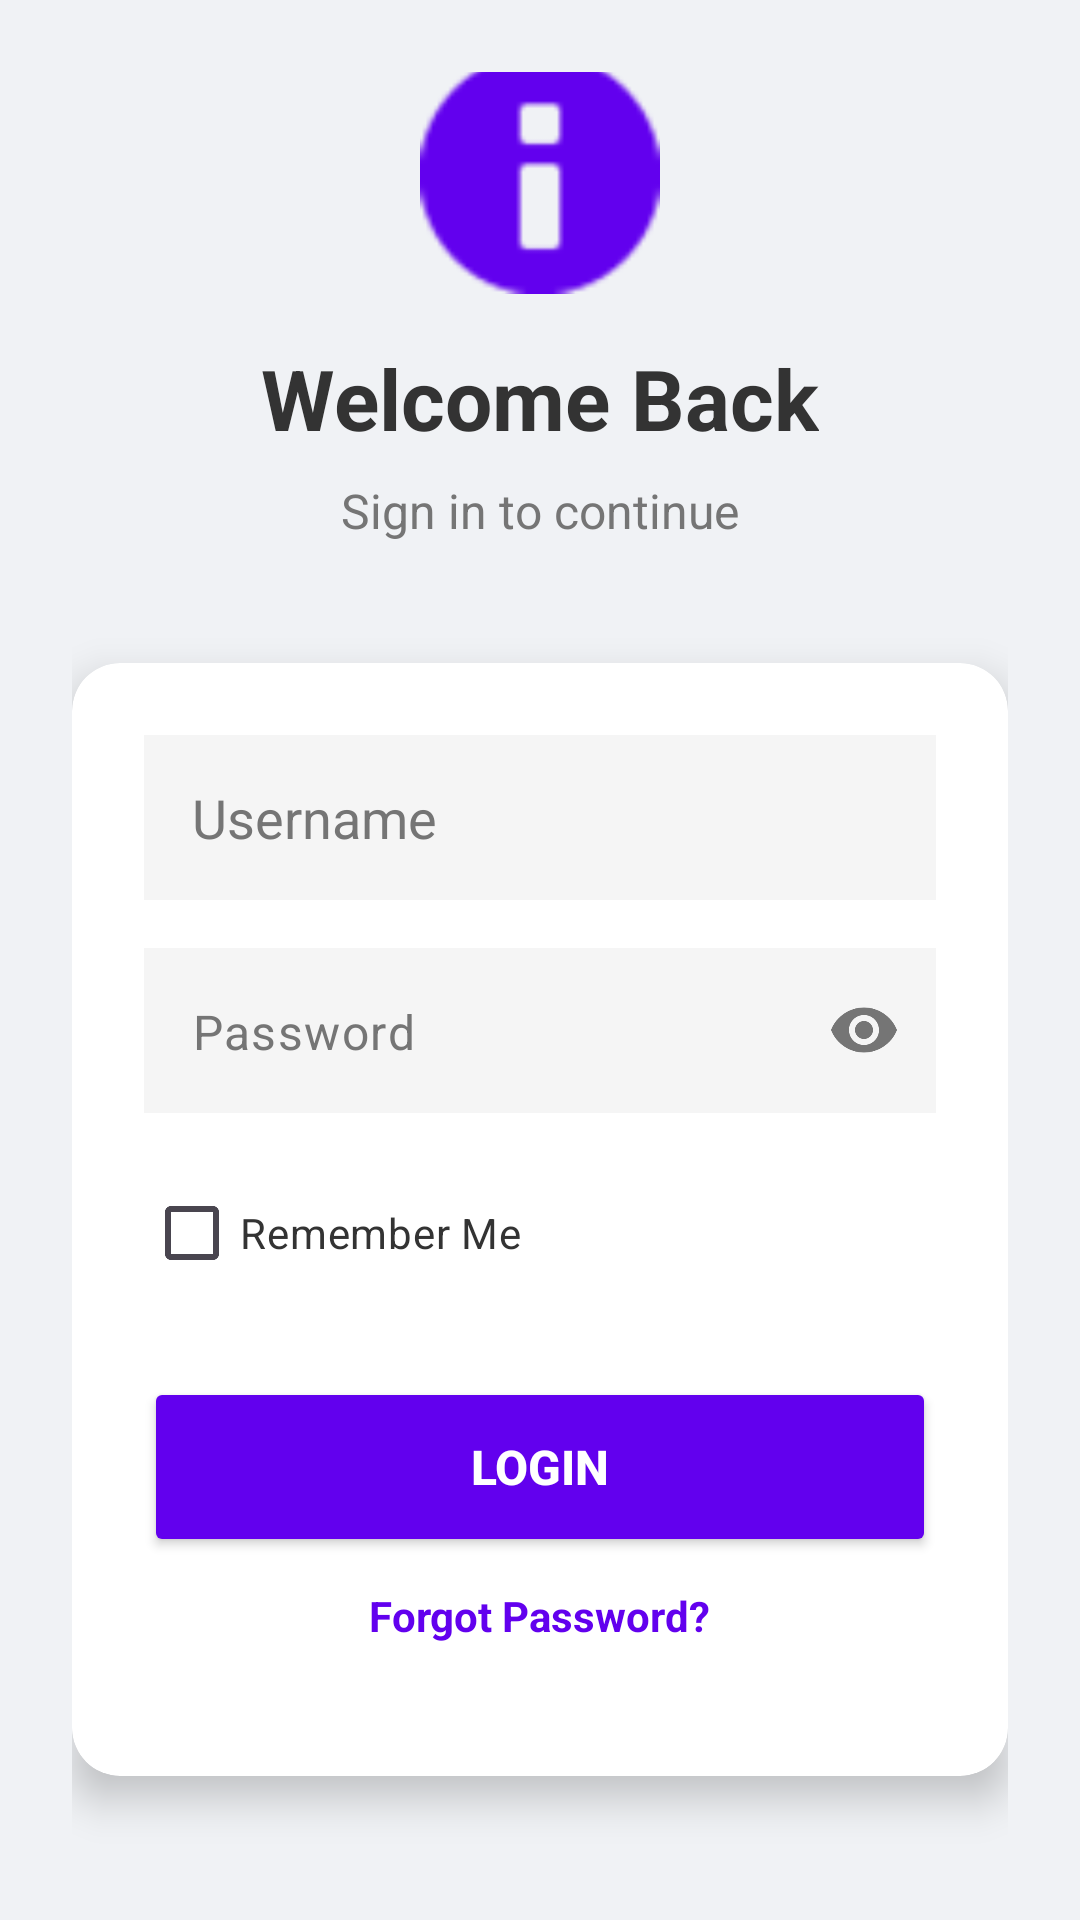

Named icons in this screenshot (1080 × 1920) and their centers, point (x, y):
info: point (540, 183)
